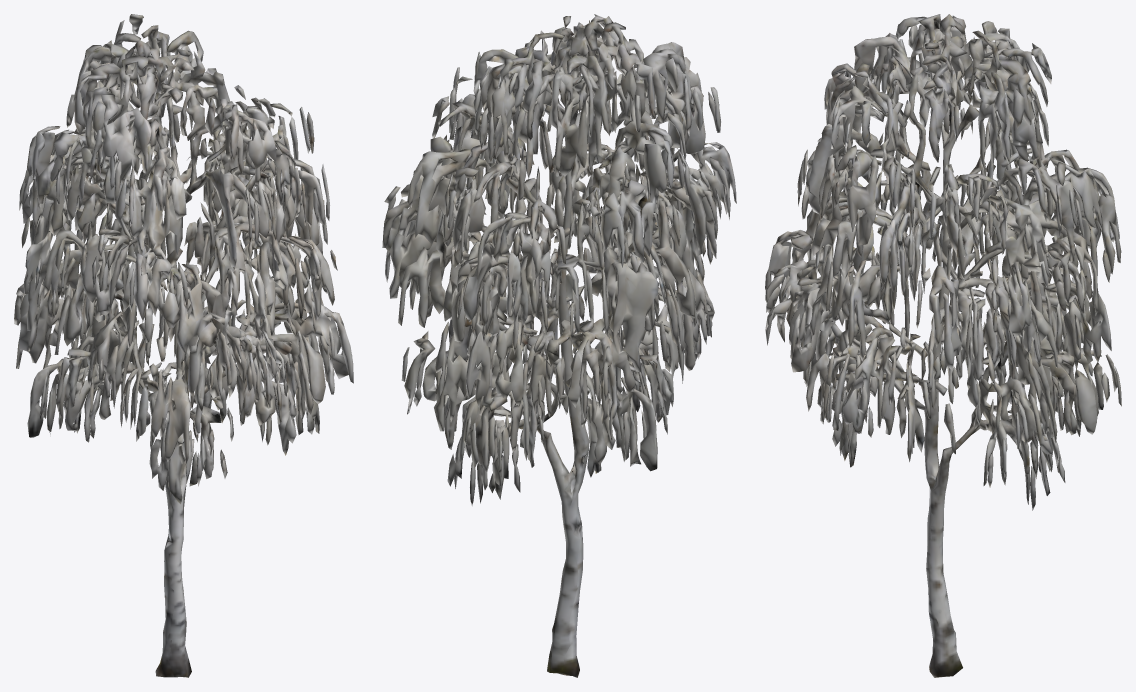
The model's file is AI_WhiteBirch02.fbx.
3 views of the same model, side by side, from view 1: azimuth 30°, elevation 25°; view 2: azimuth 150°, elevation 25°; view 3: azimuth 270°, elevation 25° (orthographic). The views are drawn at different scales.
Visible parts, largest first — view 1: Mesh1.0; view 2: Mesh1.0; view 3: Mesh1.0.
Boxes of the visible parts, x1=… form: Mesh1.0: x1=14, y1=14, x2=353, y2=677; Mesh1.0: x1=382, y1=14, x2=736, y2=677; Mesh1.0: x1=765, y1=14, x2=1121, y2=677.
Size of the model in its own units: 94.41 by 202 by 101.
Materials: 1 (1 with a texture image).
